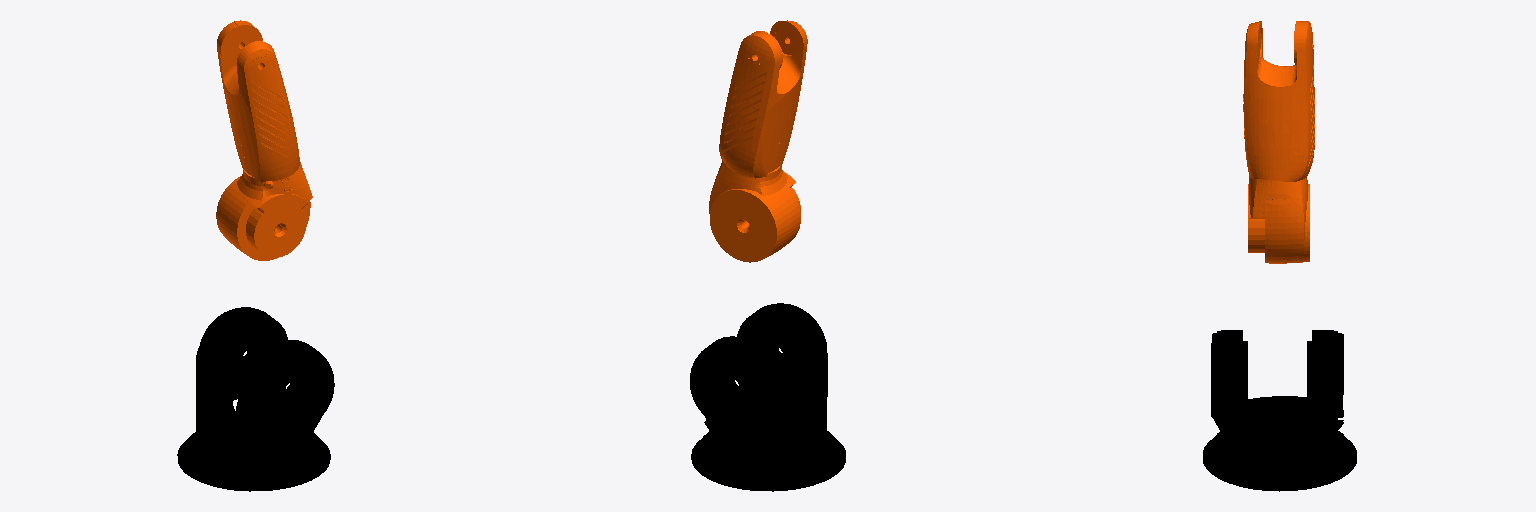
URDF robot description (kinematics):
<?xml version="1.0" encoding="utf-8"?>
<!-- This URDF was automatically created by SolidWorks to URDF Exporter! Originally created by [author] ([email redacted]) 
     Commit Version: 1.6.0-1-g15f4949  Build Version: 1.6.7594.29634
     For more information, please see http://wiki.ros.org/sw_urdf_exporter -->
<robot
  name="kinematics">
  <link
    name="base_link">
    <inertial>
      <origin
        xyz="-0.00335076211723148 -0.00500175998501442 0.0750739828489765"
        rpy="0 0 0" />
      <mass
        value="0.591525093756377" />
      <inertia
        ixx="0.00225336798131637"
        ixy="8.69097659569177E-05"
        ixz="-1.77066131452878E-05"
        iyy="0.00232652554668165"
        iyz="-2.83271574033219E-05"
        izz="0.00339521230895551" />
    </inertial>
    <visual>
      <origin
        xyz="0 0 0"
        rpy="0 0 0" />
      <geometry>
        <mesh
          filename="package://kinematics/meshes/meca/base_link.STL" />
      </geometry>
      <material
        name="Orange">
        <color
          rgba="255 0.4235294118 0.0392156863  1.0" />
      </material>
    </visual>
    <collision>
      <origin
        xyz="0 0 0"
        rpy="0 0 0" />
      <geometry>
        <mesh
          filename="package://kinematics/meshes/meca/base_link.STL" />
      </geometry>
    </collision>
  </link>

  <joint
    name="joint_1"
    type="revolute">
    <origin
      xyz="0 0 0.107"
      rpy="0 0 0" />
    <parent
      link="base_link" />
    <child
      link="link_1" />
    <axis
      xyz="0 0 -1" />
    <limit
      lower="-3.14"
      upper="3.14"
      effort="0"
      velocity="0" />
  </joint>

  <link
    name="link_1">
    <inertial>
      <origin
        xyz="0.00224511471197853 -0.00337876956545417 0.0520327906997941"
        rpy="0 0 0" />
      <mass
        value="0.632926458625479" />
      <inertia
        ixx="0.0015129125811509"
        ixy="1.45107511239285E-05"
        ixz="-0.000102354010011357"
        iyy="0.00133411002350941"
        iyz="8.1518245865777E-06"
        izz="0.00123751230497446" />
    </inertial>
    <visual>
      <origin
        xyz="0 0 0"
        rpy="0 0 0" />
      <geometry>
        <mesh
          filename="package://kinematics/meshes/meca/link_1.STL" />
      </geometry>
      <material
        name="Black">
        <color
          rgba="0 0 0  1.0" />
      </material>
    </visual>
    <collision>
      <origin
        xyz="0 0 0"
        rpy="0 0 0" />
      <geometry>
        <mesh
          filename="package://kinematics/meshes/meca/link_1.STL" />
      </geometry>
    </collision>
  </link>

  <joint
    name="joint_2"

    type="revolute">
    <origin
      xyz="0.012628 -0.0010093 0.092513"
      rpy="0 0 0" />
    <parent
      link="link_1" />
    <child

      link="link_2" />
    <axis
      xyz="-0.0033965 -0.99999 0" />
    <limit
      lower="-1.0"
      upper="1.0"
      effort="0"
      velocity="0" />
  </joint>

  <link
    name="link_2">
    <inertial>
      <origin
        xyz="-0.00341859585568687 -0.00355314877063421 0.0634582036223429"
        rpy="0 0 0" />
      <mass
        value="0.784820206565315" />
      <inertia
        ixx="0.00306291369417947"
        ixy="-3.90510667437629E-06"
        ixz="5.20701488266255E-05"
        iyy="0.00292469321026913"
        iyz="1.47478140233709E-06"
        izz="0.000773966903530111" />
    </inertial>
    <visual>
      <origin
        xyz="0 0 0"
        rpy="0 0 0" />
      <geometry>
        <mesh
          filename="package://kinematics/meshes/meca/link_2.STL" />
      </geometry>
      <material
        name="Orange">
        <color
          rgba="255 0.4235294118 0.0392156863  1.0" />
      </material>
    </visual>
    <collision>
      <origin
        xyz="0 0 0"
        rpy="0 0 0" />
      <geometry>
        <mesh
          filename="package://kinematics/meshes/meca/link_2.STL" />
      </geometry>
    </collision>
  </link>

  <joint
    name="joint_3"
    type="revolute">
    <origin
      xyz="-0.0013077 0 0.15749"
      rpy="0 0 0" />
    <parent
      link="link_2" />
    <child
      link="link_3" />
    <axis
      xyz="0.0033965 0.99999 0" />
    <limit
      lower="-2.50"
      upper="-1.23"
      effort="0"
      velocity="0" />
  </joint>

  <link
    name="link_3">
    <inertial>
      <origin
        xyz="0.0606142738452736 0.00100460222666598 -0.018105957478947"
        rpy="0 0 0" />
      <mass
        value="0.637900215233379" />
      <inertia
        ixx="0.000381649026707703"
        ixy="8.22259903793341E-06"
        ixz="7.54956713974498E-05"
        iyy="0.000761307408194591"
        iyz="9.04730657940958E-07"
        izz="0.00074976933002169" />
    </inertial>
    <visual>
      <origin
        xyz="0 0 0"
        rpy="0 0 0" />
      <geometry>
        <mesh
          filename="package://kinematics/meshes/meca/link_3.STL" />
      </geometry>
      <material
        name="Orange">
        <color
          rgba="255 0.4235294118 0.0392156863  1.0" />
      </material>
    </visual>
    <collision>
      <origin
        xyz="0 0 0"
        rpy="0 0 0" />
      <geometry>
        <mesh
          filename="package://kinematics/meshes/meca/link_3.STL" />
      </geometry>
    </collision>
  </link>

  <joint
    name="joint_4"
    type="revolute">
    <origin
      xyz="0.17472 0 -0.036389"
      rpy="0 0 0.068039" />
    <parent
      link="link_3" />
    <child
      link="link_4" />
    <axis
      xyz="0.059205 0.9908 -0.1217" />
    <limit
      lower="-1.0"
      upper="1.0"
      effort="0"
      velocity="0" />
  </joint>

  <link
    name="link_4">
    <inertial>
      <origin
        xyz="0.0453463410122961 -0.00397944404055553 0.00919728617548854"
        rpy="0 0 0" />
      <mass
        value="0.105408151014236" />
      <inertia
        ixx="1.37622747964301E-05"
        ixy="1.83452841779348E-06"
        ixz="-2.91457899795746E-06"
        iyy="3.24393916184509E-05"
        iyz="2.03283299821667E-07"
        izz="3.24115932824346E-05" />
    </inertial>
    <visual>
      <origin
        xyz="0 0 0"
        rpy="0 0 0" />
      <geometry>
        <mesh
          filename="package://kinematics/meshes/meca/link_4.STL" />
      </geometry>
      <material
      
        name="Black">
        <color
          rgba="0 0 0  1.0" />
      </material>
    </visual>
    <collision>
      <origin
        xyz="0 0 0"
        rpy="0 0 0" />
      <geometry>
        <mesh
          filename="package://kinematics/meshes/meca/link_4.STL" />
      </geometry>
    </collision>
  </link>

</robot>

--- Render facts (derived) ---
The picture shows the robot from 3 angles, left to right: view 1: azimuth 30°, elevation 25°; view 2: azimuth 150°, elevation 25°; view 3: azimuth 270°, elevation 25°; orthographic projection.
Model kinematics with 5 links and 4 joints (4 revolute), rooted at base_link, posed joints at zero except 1 at the middle of their limits (joint_3 = -1.86).
Links seen in each view (by area): view 1: link_1, link_3; view 2: link_1, link_3; view 3: link_1, link_3.
Boxes of the visible links, box(x1,y1,x2,y2) form: link_1: box(177, 307, 334, 491); link_3: box(216, 20, 312, 260); link_1: box(690, 303, 845, 491); link_3: box(709, 20, 807, 262); link_1: box(1203, 330, 1356, 491); link_3: box(1243, 21, 1314, 263).
Bounding box of the posed robot: 0.145 × 0.1449 × 0.4481 m (x, y, z).
Meshes: 5 distinct files referenced, 2 mesh visuals loaded (2 binary STL); not drawn: 3 (reference not matched to a file when rendering).